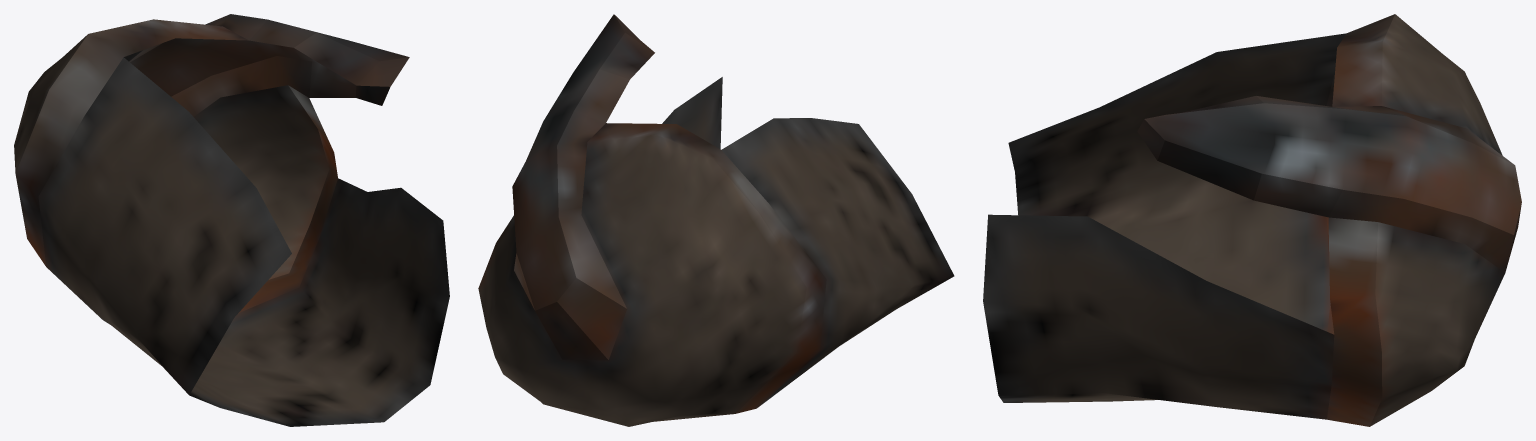
Rendered from RustedArmor_helm.fbx.
3 views of the same model, side by side, from view 1: azimuth 30°, elevation 25°; view 2: azimuth 150°, elevation 25°; view 3: azimuth 270°, elevation 25° (orthographic). The views are drawn at different scales.
Visible parts, largest first — view 1: armor_helm; view 2: armor_helm; view 3: armor_helm.
Boxes of the visible parts, x1=… form: armor_helm: x1=14, y1=14, x2=449, y2=426; armor_helm: x1=478, y1=14, x2=954, y2=426; armor_helm: x1=983, y1=14, x2=1521, y2=426.
Size of the model in its own units: 19.01 by 17.45 by 25.04.
